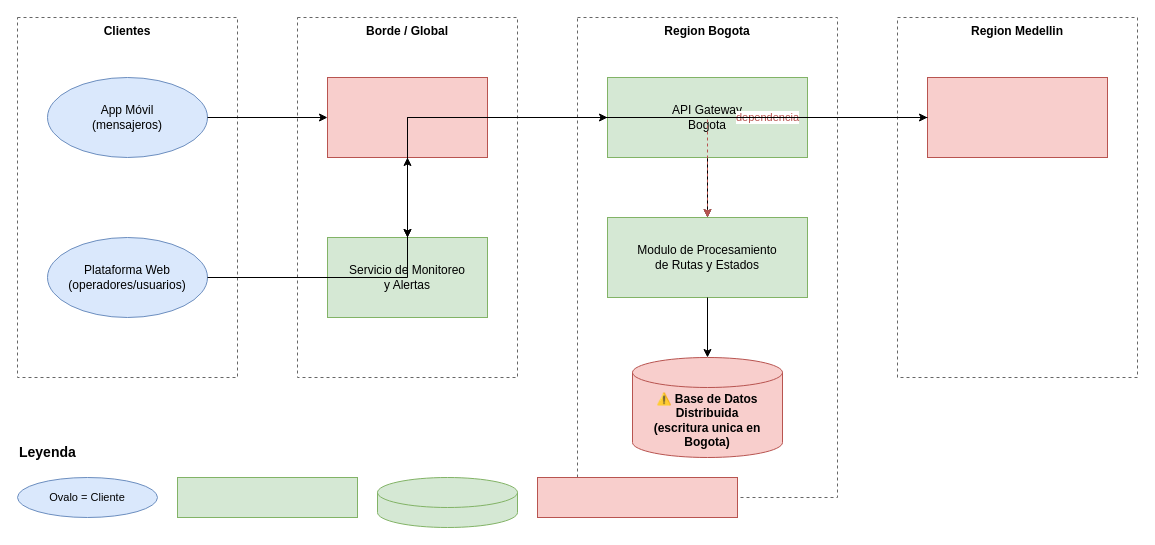
Image size: 1155x545. Some labels were removed from this diagram. The shapes that lost their labels are listed below. From the top down, each one's centre as x and y in pixels, then its label:
the point at 407,117: ⚠️ Balanceador de Carga (instancia unica)
the point at 1017,117: ⚠️ API Gateway Medellin (sin modulo de rutas propio)
the point at 267,497: Rectangulo = Servidor/Servicio
the point at 447,502: Cilindro = Base de datos
the point at 637,497: ⚠️ Rojo = Componente en riesgo
